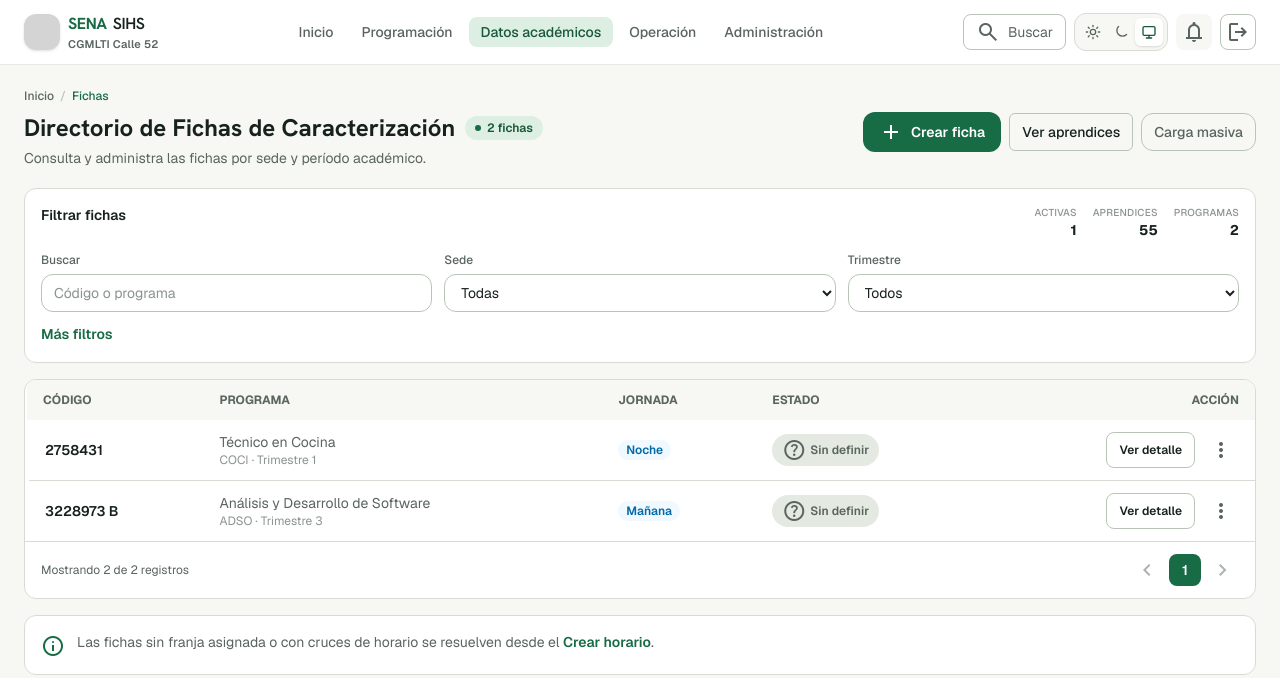
Fichas › filtra la lista de fichas por instructor usando todos los horarios del sistema
The width and height of the screenshot is (1280, 678).
Expected: the text "3228973 B" is shown, [27,480,204,541]
Expected: the text "2758431" is shown, [27,420,204,480]
Click the button "Más filtros": point(77, 334) [41,324,113,344]
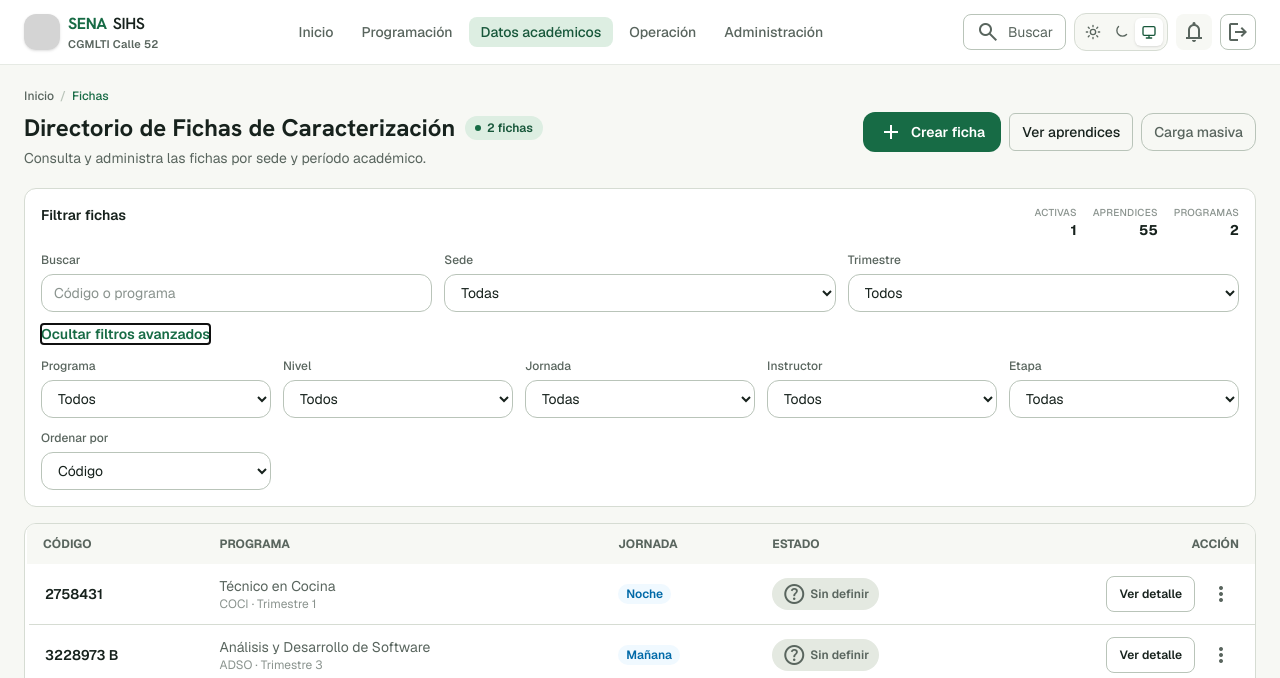
Select "Erick Granados" in the dropdown labelled "Instructor": point(882, 399) [767,380,997,418]
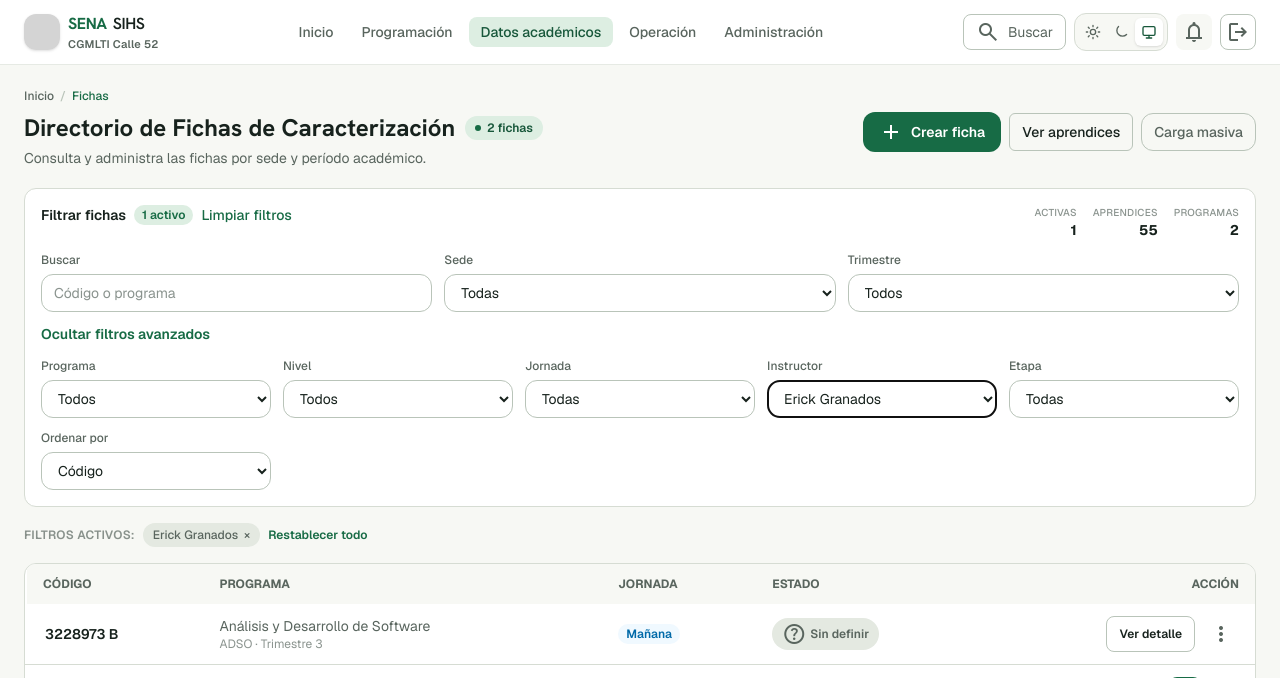
Expected: the text "3228973 B" is shown, [27,604,204,664]
Expected: the text "2758431" is gone
Select "Fredy Ardila" in the dropdown labelled "Instructor": point(882, 399) [767,380,997,418]
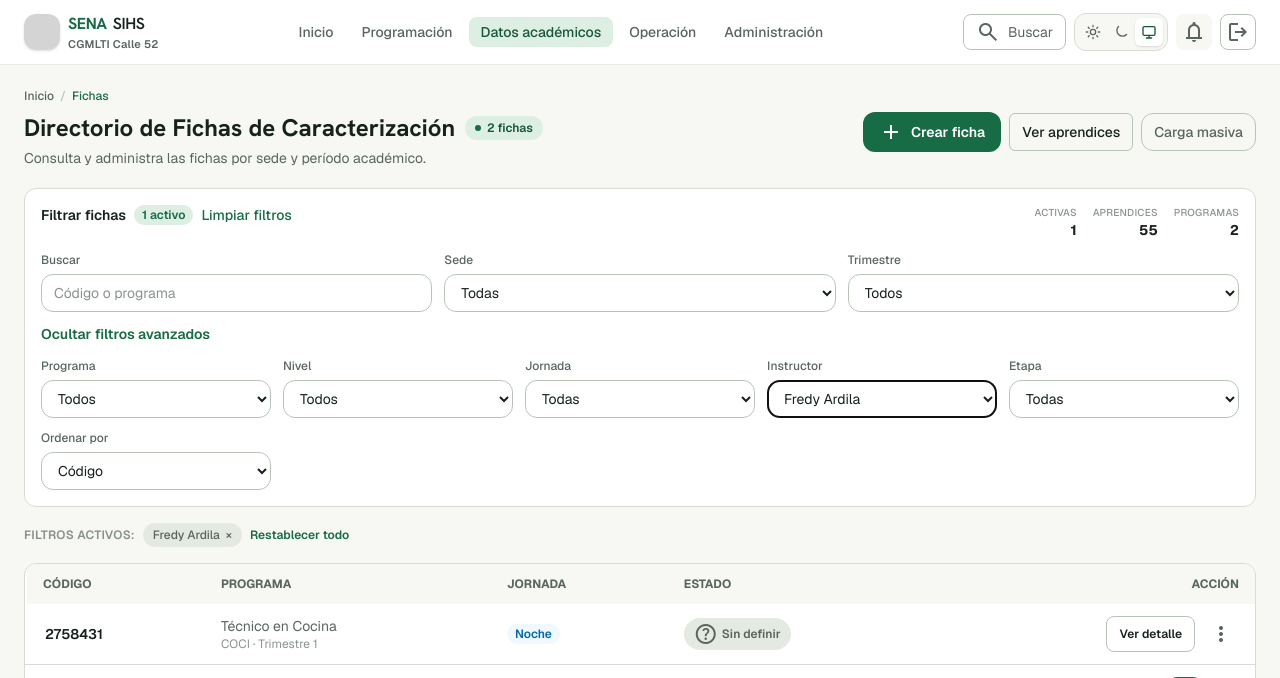
Expected: the text "3228973 B" is gone
Expected: the text "2758431" is shown, [27,604,205,664]
